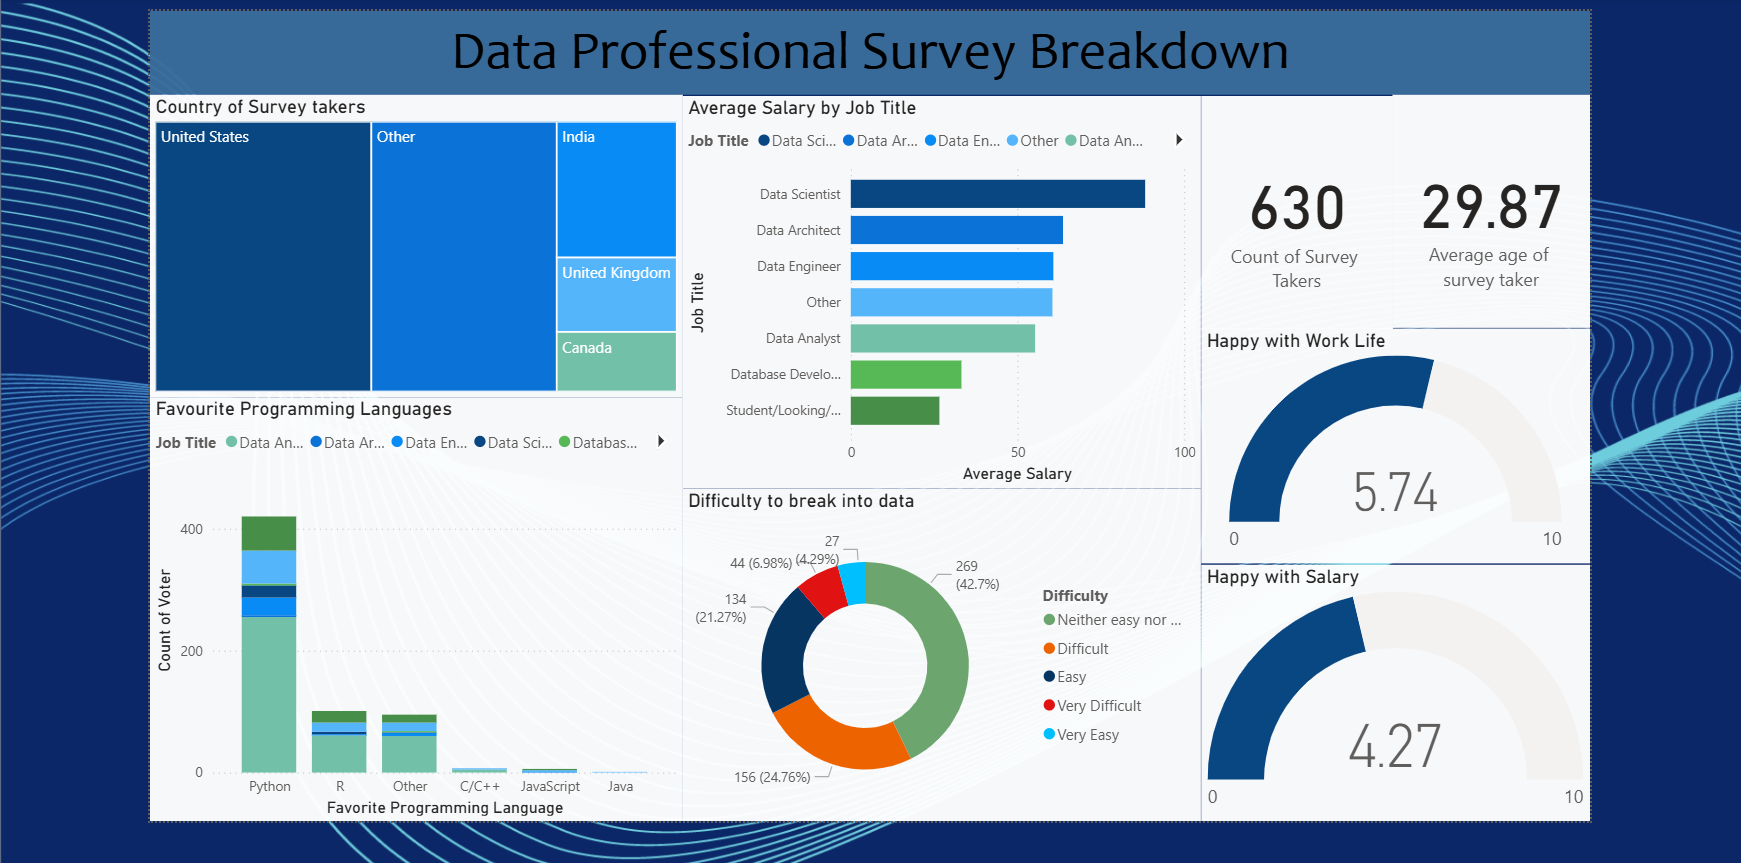

Layout of this report page (visuals, bound fields, positions):
{"tool":"powerbi","page":{"name":"Page 1","canvas":[1280,720],"ordinal":0},"visuals":[{"type":"textbox","box":[0,0,1280.3,74.1],"z":0},{"type":"card","fields":{"Values":["Count(Data Professional Survey.Unique ID)"]},"box":[934.5,75.5,170.2,207.2],"z":1000},{"type":"card","fields":{"Values":["Avg(Data Professional Survey.Q10 - Current Age)"]},"box":[1104.6,74.1,175.6,207.2],"z":2000},{"type":"barChart","title":"Average Salary by Job Title","fields":{"Category":["Data Professional Survey.Q1 - Which Title Best Fits your Current Role?.1"],"Y":["Avg(Data Professional Survey.Average Salary)"],"Series":["Data Professional Survey.Q1 - Which Title Best Fits your Current Role?.1"]},"box":[473.4,75.5,461.1,348.5],"z":3000},{"type":"columnChart","title":"Favourite Programming Languages","fields":{"Category":["Data Professional Survey.Q5 - Favorite Programming Language.1"],"Y":["CountNonNull(Data Professional Survey.Unique ID)"],"Series":["Data Professional Survey.Q1 - Which Title Best Fits your Current Role?.1"]},"box":[0,343.1,473.4,377.4],"z":4000},{"type":"treemap","title":"Country of Survey takers","fields":{"Group":["Data Professional Survey.Q11 - Which Country do you live in?.1"],"Values":["CountNonNull(Data Professional Survey.Q11 - Which Country do you live in?.1)"]},"box":[0,74.1,473.4,269],"z":5000},{"type":"gauge","title":"Happy with Work Life ","fields":{"Y":["Avg(Data Professional Survey.Q6 - How Happy are you in your Current Position with the following? (Work/Life Balance))"],"MinValue":["Min(Data Professional Survey.Q6 - How Happy are you in your Current Position with the following? (Work/Life Balance))"],"MaxValue":["Max(Data Professional Survey.Q6 - How Happy are you in your Current Position with the following? (Work/Life Balance))1"]},"box":[934.5,282.7,345.8,208.6],"z":6000},{"type":"gauge","title":"Happy with Salary","fields":{"Y":["Avg(Data Professional Survey.Q6 - How Happy are you in your Current Position with the following? (Salary))"],"MinValue":["Min(Data Professional Survey.Q6 - How Happy are you in your Current Position with the following? (Salary))"],"MaxValue":["Max(Data Professional Survey.Q6 - How Happy are you in your Current Position with the following? (Salary))"]},"box":[934.5,492.6,345.8,227.8],"z":7000},{"type":"donutChart","title":"Difficulty to break into data","fields":{"Category":["Data Professional Survey.Q7 - How difficult was it for you to break into Data?"],"Y":["CountNonNull(Data Professional Survey.Q7 - How difficult was it for you to break into Data?)"]},"box":[473.4,424,461.1,296.4],"z":7001}]}

Visuals, with their boxes on the page's 1280x720 design canvas (x1, y1, x2, y2). These are canvas units, not pixel positions in the 1741x863 screenshot, which may show the page scaled, cropped or inside an application window:
textbox: 0,0,1280,74
card - Count(Data Professional Survey.Unique ID): 934,76,1105,283
card - Avg(Data Professional Survey.Q10 - Current Age): 1105,74,1280,281
"Average Salary by Job Title" barChart: 473,76,934,424
"Favourite Programming Languages" columnChart: 0,343,473,720
"Country of Survey takers" treemap: 0,74,473,343
"Happy with Work Life " gauge: 934,283,1280,491
"Happy with Salary" gauge: 934,493,1280,720
"Difficulty to break into data" donutChart: 473,424,934,720
